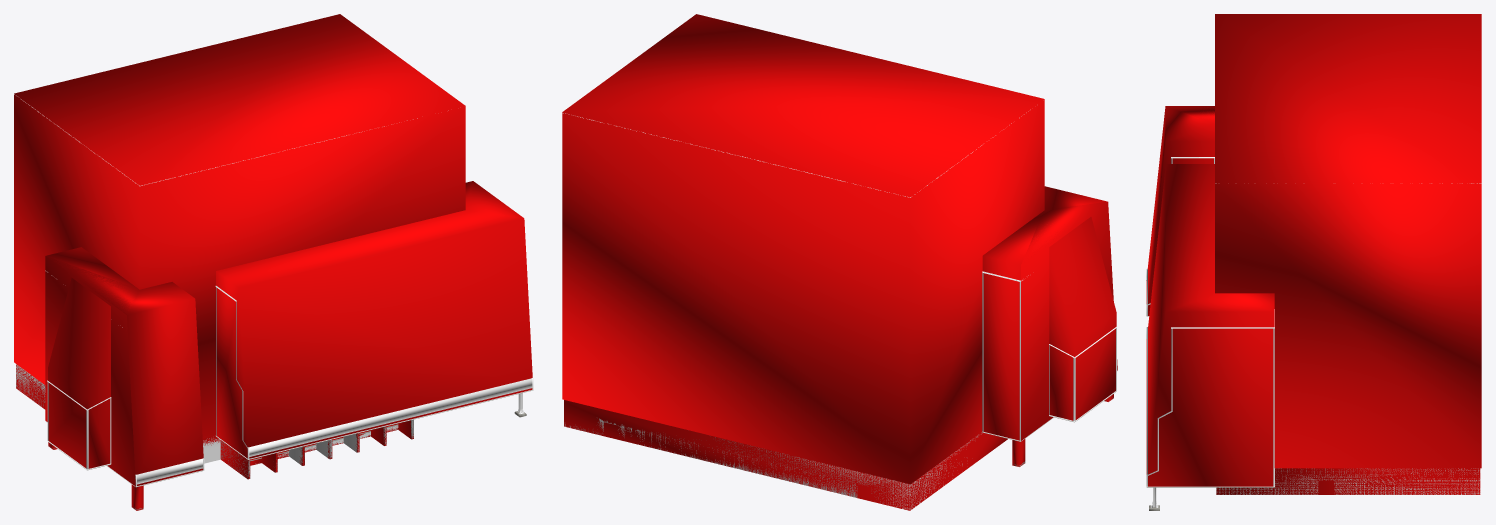
Rendered from gebaeude_01.fbx.
3 renders of one model, left to right at view 1: azimuth 30°, elevation 25°; view 2: azimuth 150°, elevation 25°; view 3: azimuth 270°, elevation 25°, orthographic. The views are drawn at different scales.
Visible parts, largest first — view 1: Mesh, Mesh_ncl1_1; view 2: Mesh, Mesh_ncl1_1; view 3: Mesh, Mesh_ncl1_1.
Boxes of the visible parts, left/top/right/bottom form: Mesh: left=14, top=14, right=532, bottom=510; Mesh_ncl1_1: left=14, top=94, right=533, bottom=510; Mesh: left=562, top=14, right=1117, bottom=510; Mesh_ncl1_1: left=563, top=109, right=1117, bottom=510; Mesh: left=1146, top=14, right=1481, bottom=494; Mesh_ncl1_1: left=1146, top=157, right=1481, bottom=510.
Size of the model in its own units: 6769 by 4510 by 4383.
